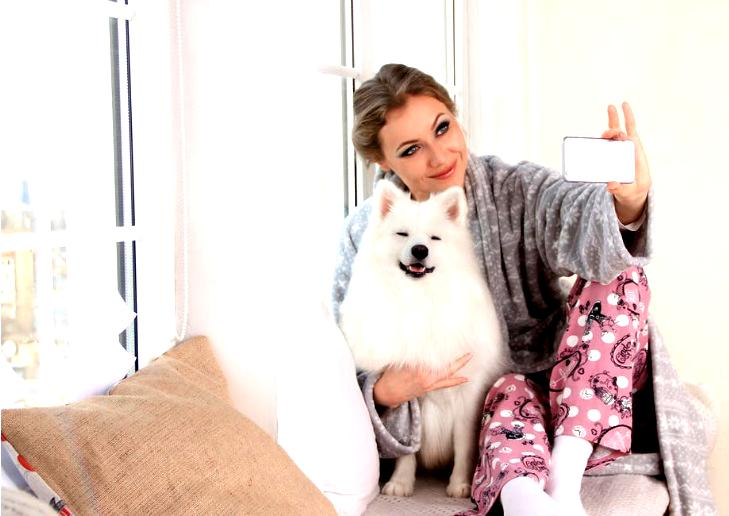face: (385, 97, 467, 193)
